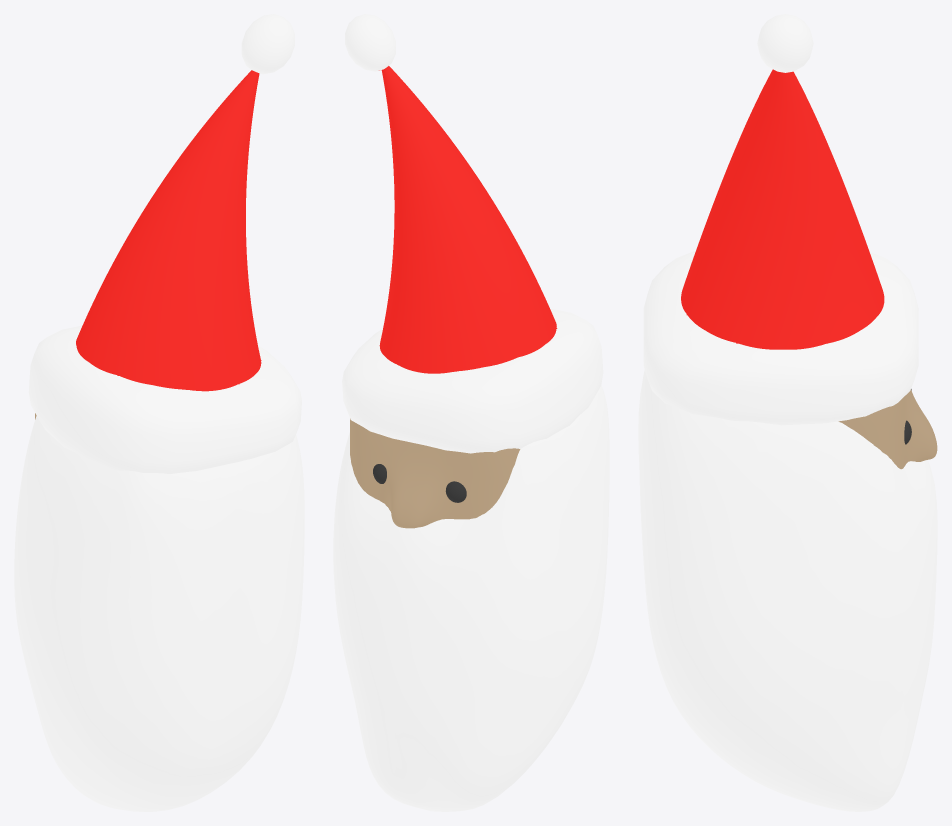
Rendered from santa.glb.
The picture shows the model from 3 angles, left to right: view 1: azimuth 30°, elevation 25°; view 2: azimuth 150°, elevation 25°; view 3: azimuth 270°, elevation 25°; orthographic projection. The views are drawn at different scales.
Visible parts, largest first — view 1: Barba_2, Gorro-carpet_shaved_4, Gorro-carpet_shaved.3_9, Gorro-carpet_shaved.3_8, Gorro-carpet_shaved.3_5, Gorro-carpet_shaved.3_6; view 2: Barba_2, Gorro-carpet_shaved_4, Gorro-carpet_shaved.3_9, object 2, Gorro-carpet_shaved.3_8, Gorro-carpet_shaved.3_5, Olhos_1; view 3: Barba_2, Gorro-carpet_shaved_4, Gorro-carpet_shaved.3_9, Gorro-carpet_shaved.3_8, object 2, Gorro-carpet_shaved.3_5.
Part boxes in pixels (<box>): Barba_2: <box>14,416,304,811</box>; Gorro-carpet_shaved_4: <box>76,70,261,391</box>; Gorro-carpet_shaved.3_9: <box>28,337,301,473</box>; Gorro-carpet_shaved.3_8: <box>43,325,283,408</box>; Gorro-carpet_shaved.3_5: <box>241,14,294,74</box>; Gorro-carpet_shaved.3_6: <box>40,422,170,473</box>; Barba_2: <box>333,385,609,811</box>; Gorro-carpet_shaved_4: <box>379,66,557,373</box>; Gorro-carpet_shaved.3_9: <box>342,320,603,453</box>; object 2: <box>350,418,520,528</box>; Gorro-carpet_shaved.3_8: <box>355,308,585,388</box>; Gorro-carpet_shaved.3_5: <box>345,14,395,71</box>; Olhos_1: <box>373,464,466,502</box>; Barba_2: <box>638,370,937,811</box>; Gorro-carpet_shaved_4: <box>681,69,884,349</box>; Gorro-carpet_shaved.3_9: <box>643,250,918,425</box>; Gorro-carpet_shaved.3_8: <box>661,253,901,380</box>; object 2: <box>838,389,937,469</box>; Gorro-carpet_shaved.3_5: <box>757,14,813,72</box>.
Size of the model in its own units: 0.3273 by 0.9805 by 0.3159.
